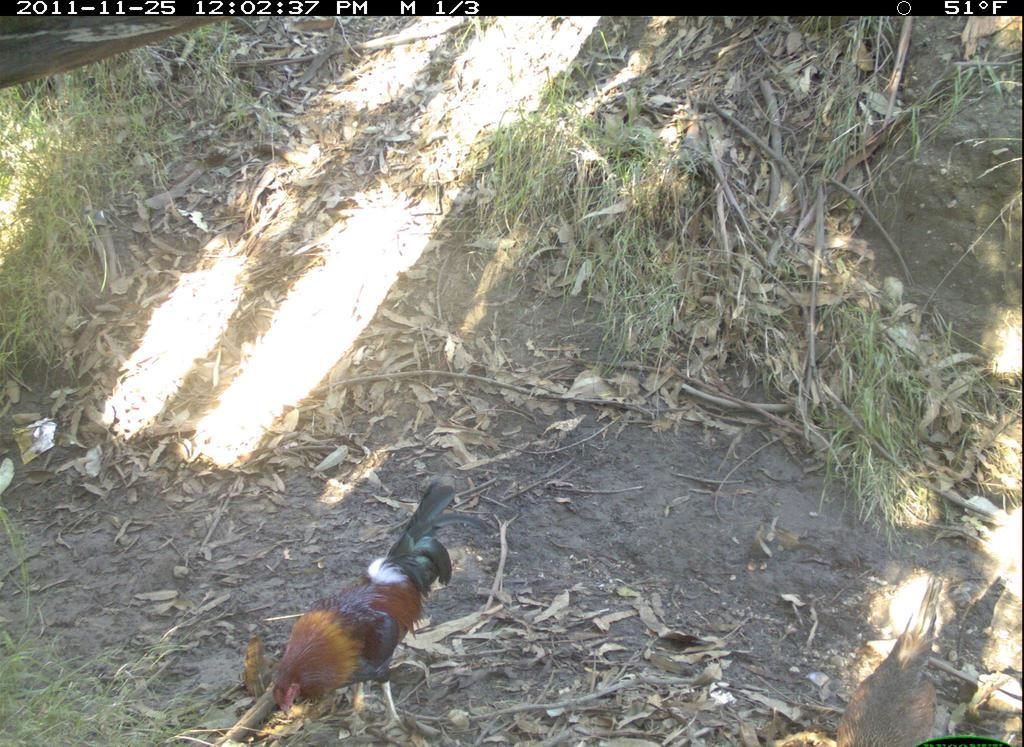bird: (259, 469, 491, 745)
